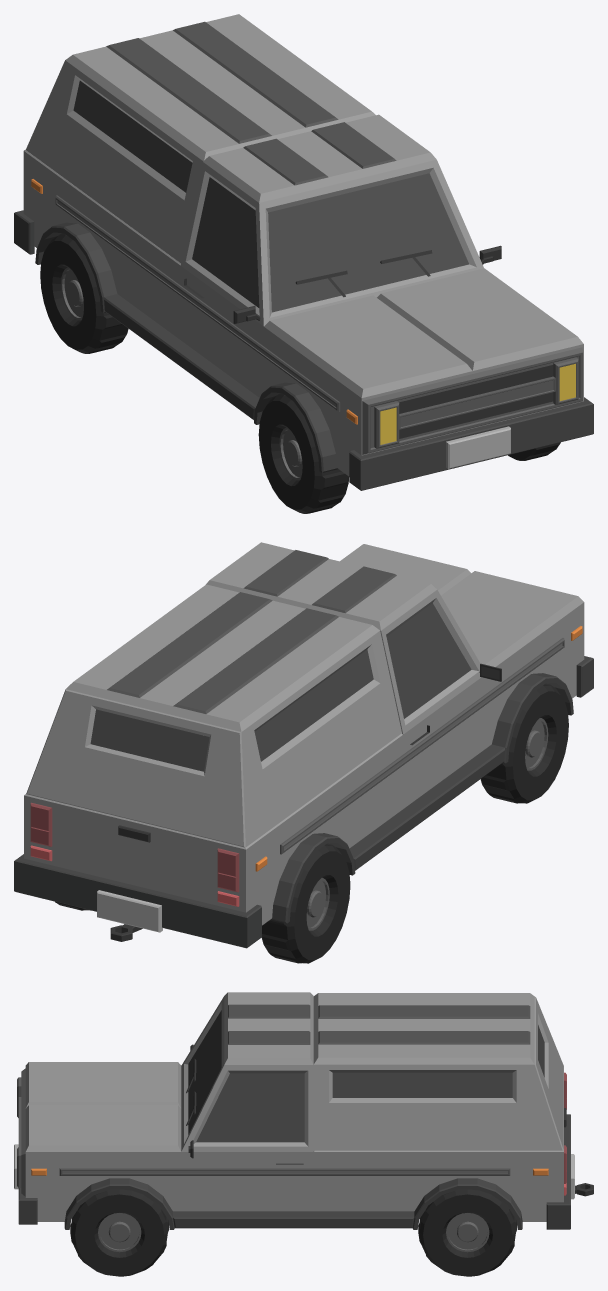
The model's file is hatch.glb.
The picture shows the model from 3 angles, top to bottom: view 1: azimuth 30°, elevation 25°; view 2: azimuth 150°, elevation 25°; view 3: azimuth 270°, elevation 25°; orthographic projection. The views are drawn at different scales.
Visible parts, largest first — view 1: body, wheel_front_L, wheel_rear_L; view 2: body, wheel_rear_L, wheel_front_L; view 3: body, wheel_front_R, wheel_rear_R.
Part boxes in pixels (x1,y1,x2,y2): body: (14,14,593,490); wheel_front_L: (258,393,348,513); wheel_rear_L: (40,233,128,353); body: (14,542,593,948); wheel_rear_L: (261,843,350,963); wheel_front_L: (480,683,568,803); body: (14,992,593,1229); wheel_front_R: (70,1189,168,1276); wheel_rear_R: (418,1189,516,1276).
Bounding box in the file's own units: 2.27 × 2.11 × 5.37.
1 material, 1 textured.
